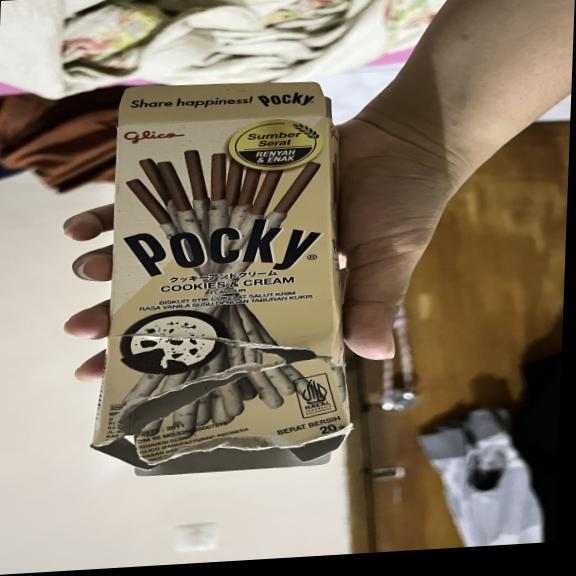Kertas: (104, 111, 345, 460)
